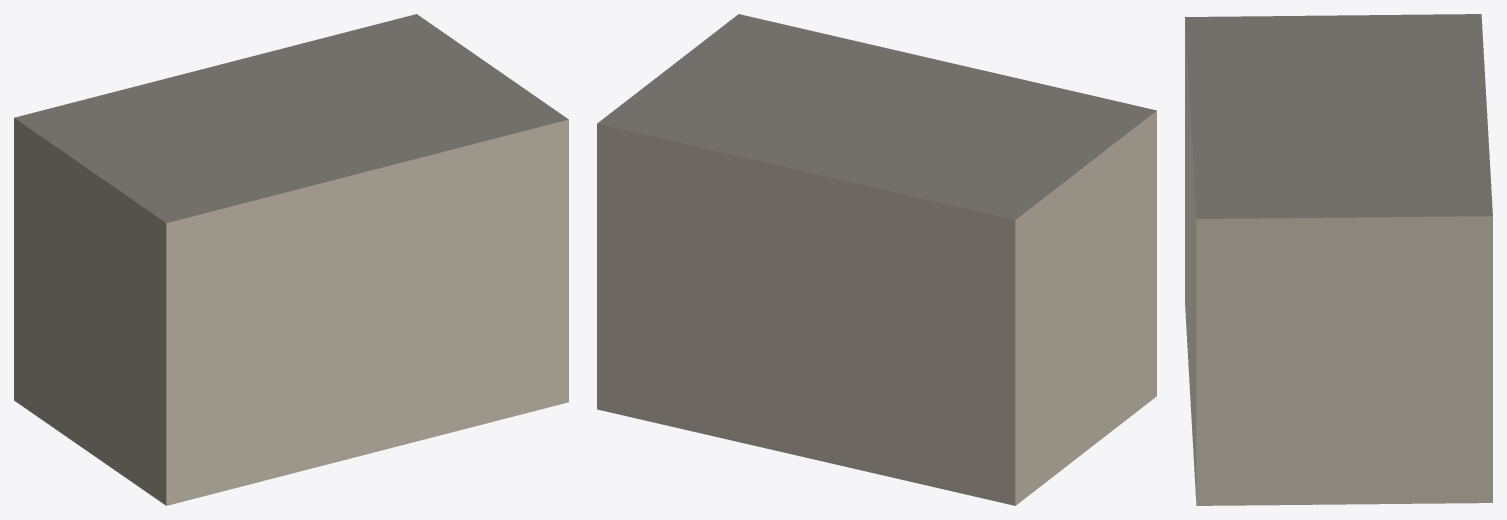
3 views of the same model, side by side, from view 1: azimuth 30°, elevation 25°; view 2: azimuth 150°, elevation 25°; view 3: azimuth 270°, elevation 25° (orthographic).
Visible parts, largest first — view 1: HP-w1424106492; view 2: HP-w1424106492; view 3: HP-w1424106492.
Part boxes in pixels (<box>): HP-w1424106492: <box>14,14,568,505</box>; HP-w1424106492: <box>597,14,1156,505</box>; HP-w1424106492: <box>1185,14,1492,505</box>.
Size of the model in its own units: 18.4 by 12 by 11.67.
